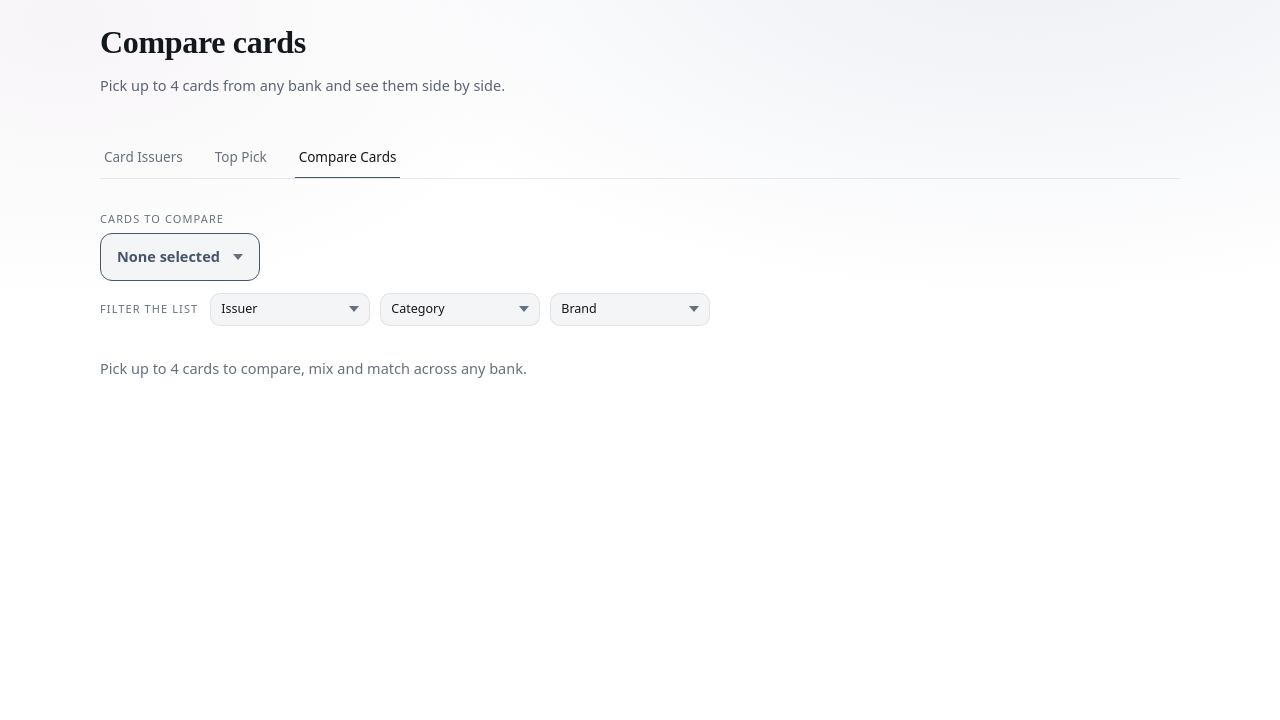
Scenario: ComparePage › the Category filter offers and narrows by a behavioral chip sourced from CardSummary alone
The image size is (1280, 720).
Click the button "Category": [460, 309] box x1=380 y1=293 x2=540 y2=326
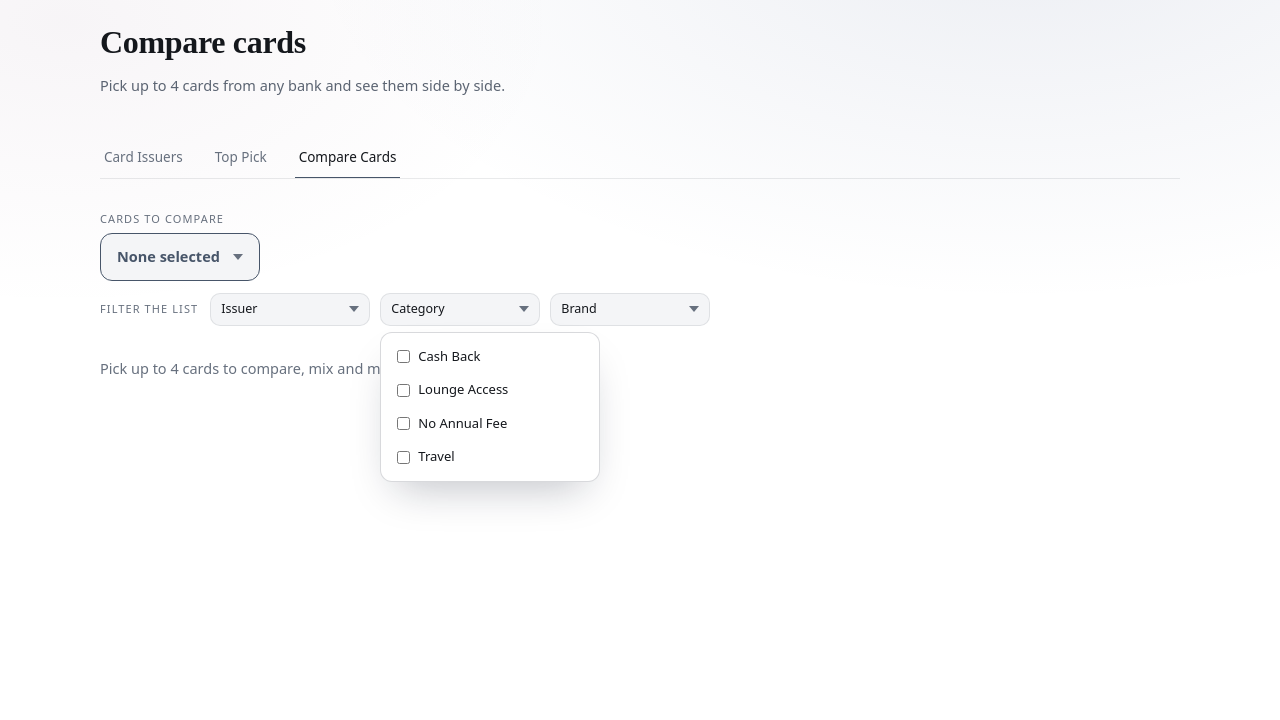
Expected: the text "Lounge Access" is shown
Click the text "Lounge Access": [453, 389] box x1=397 y1=380 x2=508 y2=398
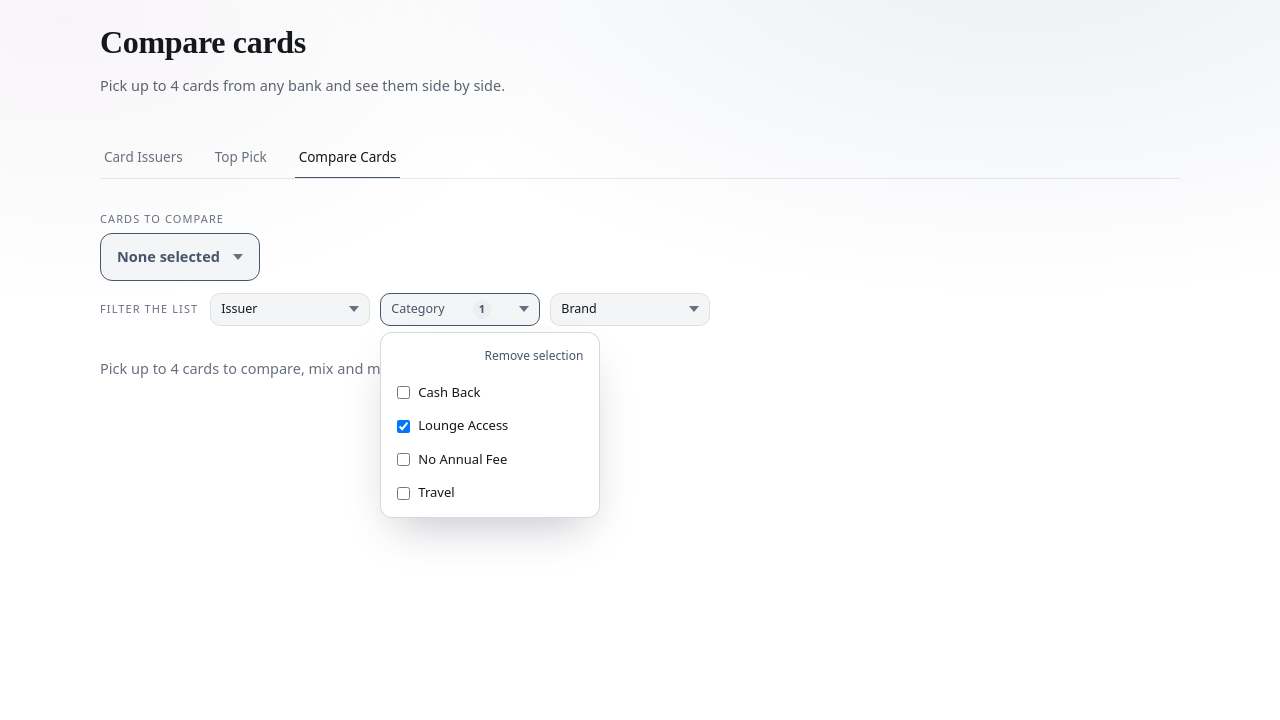
Click the button with aria-label "cards to compare": [180, 257] box x1=100 y1=233 x2=260 y2=281
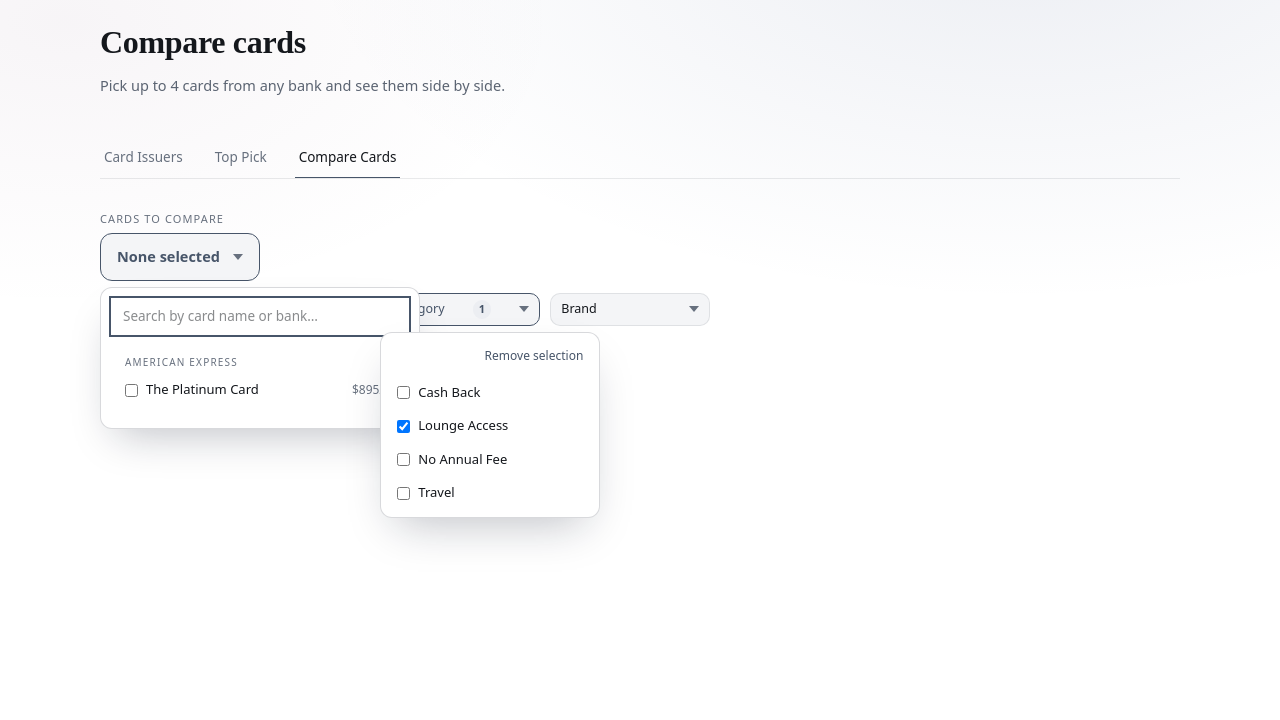
Expected: the text "The Platinum Card" is shown, x1=146 y1=380 x2=259 y2=398
